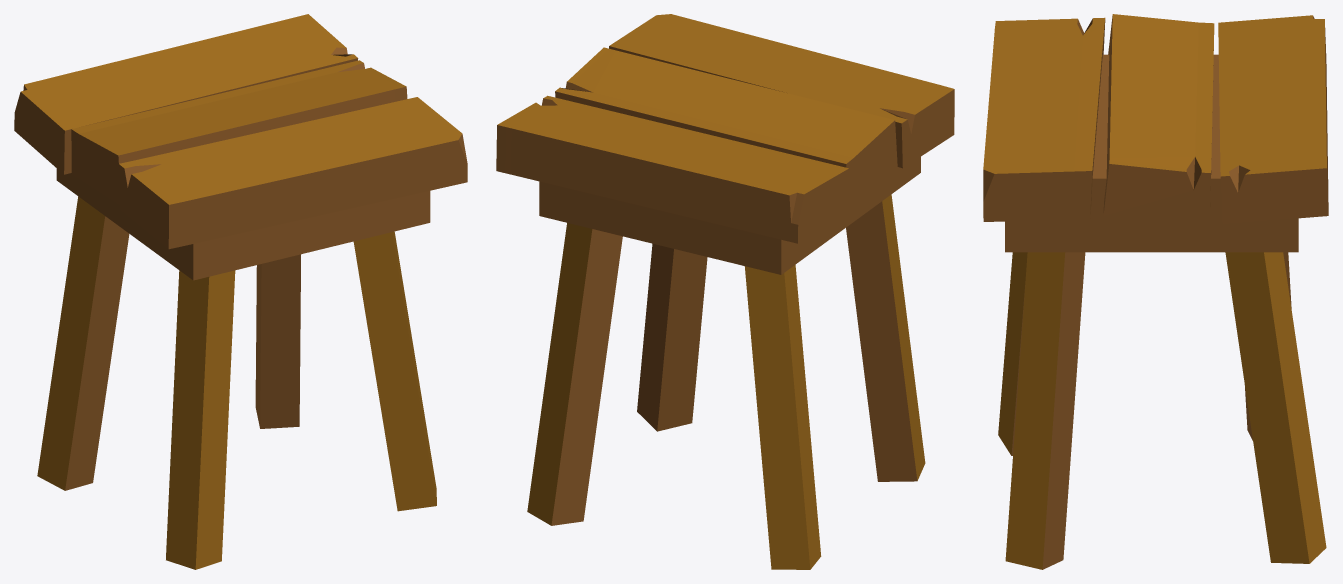
Rendered from banco_1.fbx.
The picture shows the model from 3 angles, left to right: view 1: azimuth 30°, elevation 25°; view 2: azimuth 150°, elevation 25°; view 3: azimuth 270°, elevation 25°; orthographic projection. The views are drawn at different scales.
Visible parts, largest first — view 1: banco_1; view 2: banco_1; view 3: banco_1.
Part boxes in pixels (x1,y1,x2,y2): banco_1: [14, 14, 467, 569]; banco_1: [496, 14, 954, 569]; banco_1: [983, 14, 1328, 569].
Size of the model in its own units: 48.68 by 61.29 by 46.14.
